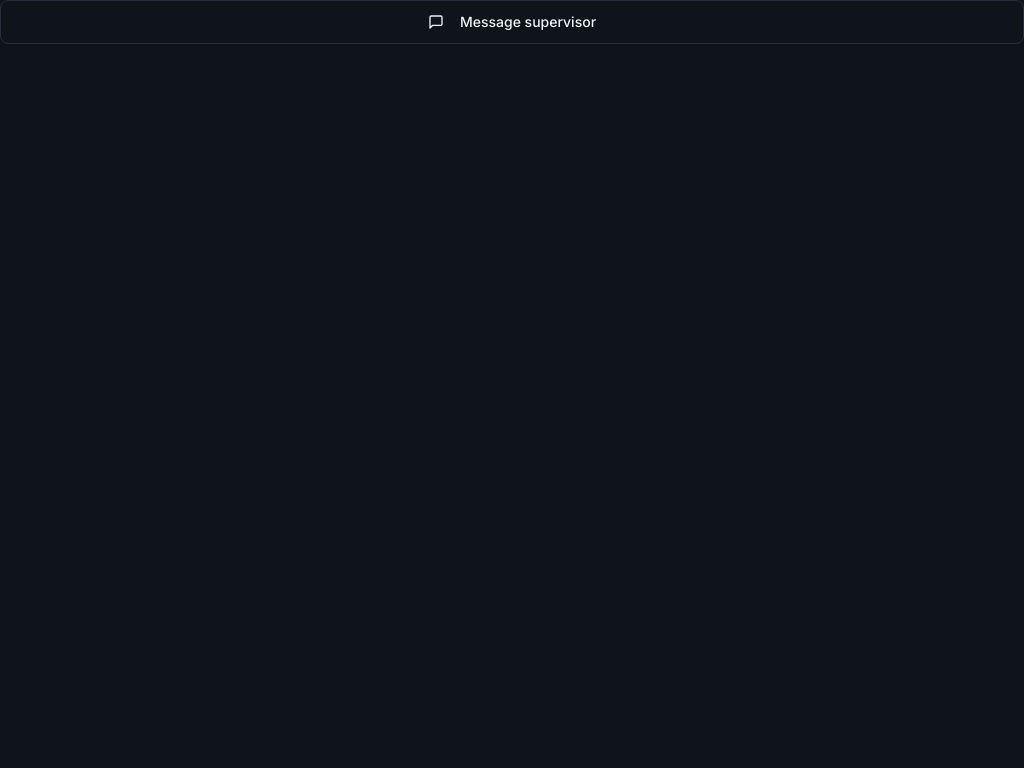
Test: MessageSupervisorDialog — the supervisor on file › talks to the supervisor on file, not the poster, and names them
Click the button "Message supervisor" at (512, 22), box [0, 0, 1023, 44]
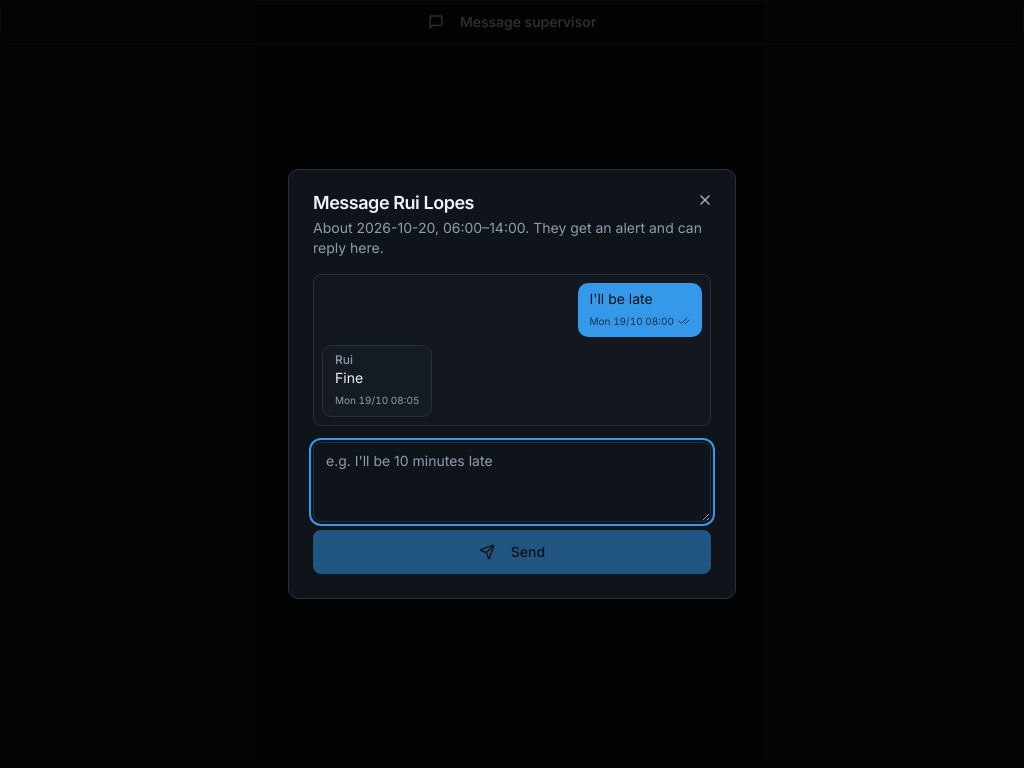
Expected: the heading "Message Rui Lopes" is shown, [313, 192, 474, 213]
